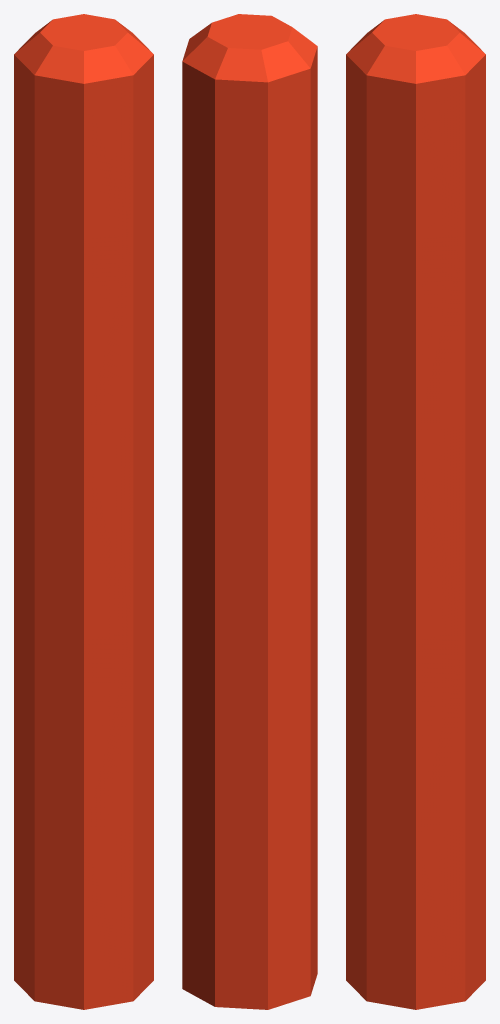
Rendered from SM_Bollard_A_City.fbx.
The picture shows the model from 3 angles, left to right: view 1: azimuth 90°, elevation 25°; view 2: azimuth 150°, elevation 25°; view 3: azimuth 270°, elevation 25°; orthographic projection.
Visible parts, largest first — view 1: SM_Bollard_A_City; view 2: SM_Bollard_A_City; view 3: SM_Bollard_A_City.
Boxes of the visible parts, left/top/right/bottom form: SM_Bollard_A_City: left=14, top=14, right=153, bottom=1009; SM_Bollard_A_City: left=182, top=14, right=317, bottom=1009; SM_Bollard_A_City: left=346, top=14, right=485, bottom=1009.
Size of the model in its own units: 0.1276 by 0.9539 by 0.1276.
